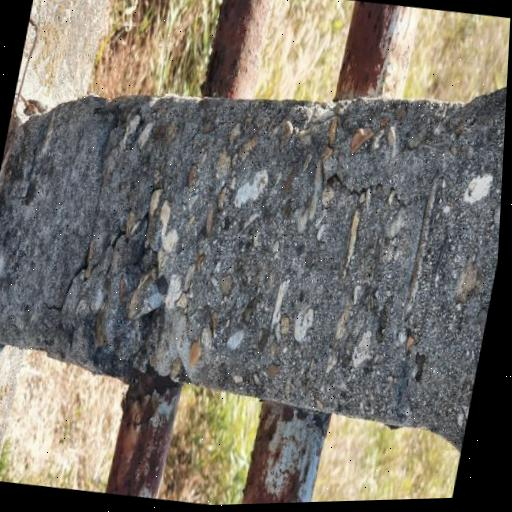exposed_rebar: (404, 176, 438, 319), (103, 158, 112, 188), (88, 240, 95, 262), (85, 266, 91, 278)
